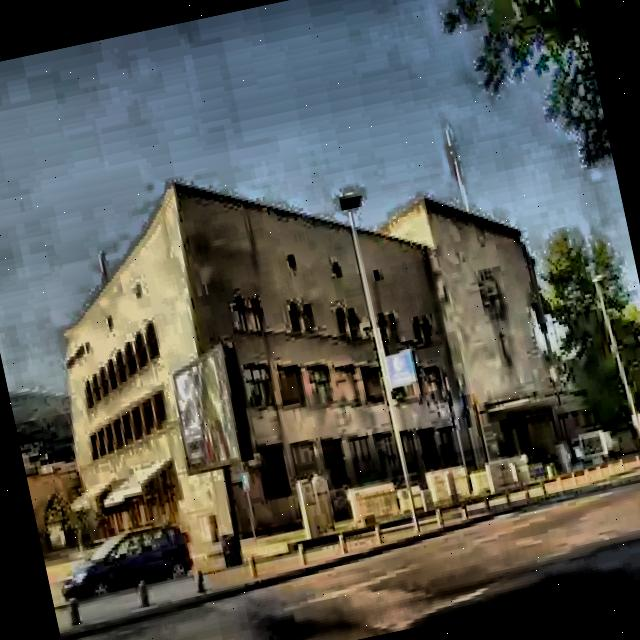old railway: (2, 103, 595, 556)
